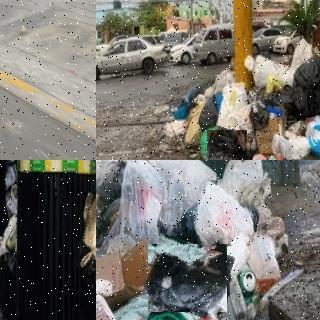Garbage: (144, 239, 231, 317), (191, 177, 253, 249), (291, 55, 320, 115), (77, 190, 96, 274), (203, 127, 250, 160), (244, 54, 290, 87), (219, 80, 248, 130), (269, 128, 310, 160), (197, 96, 217, 129)
